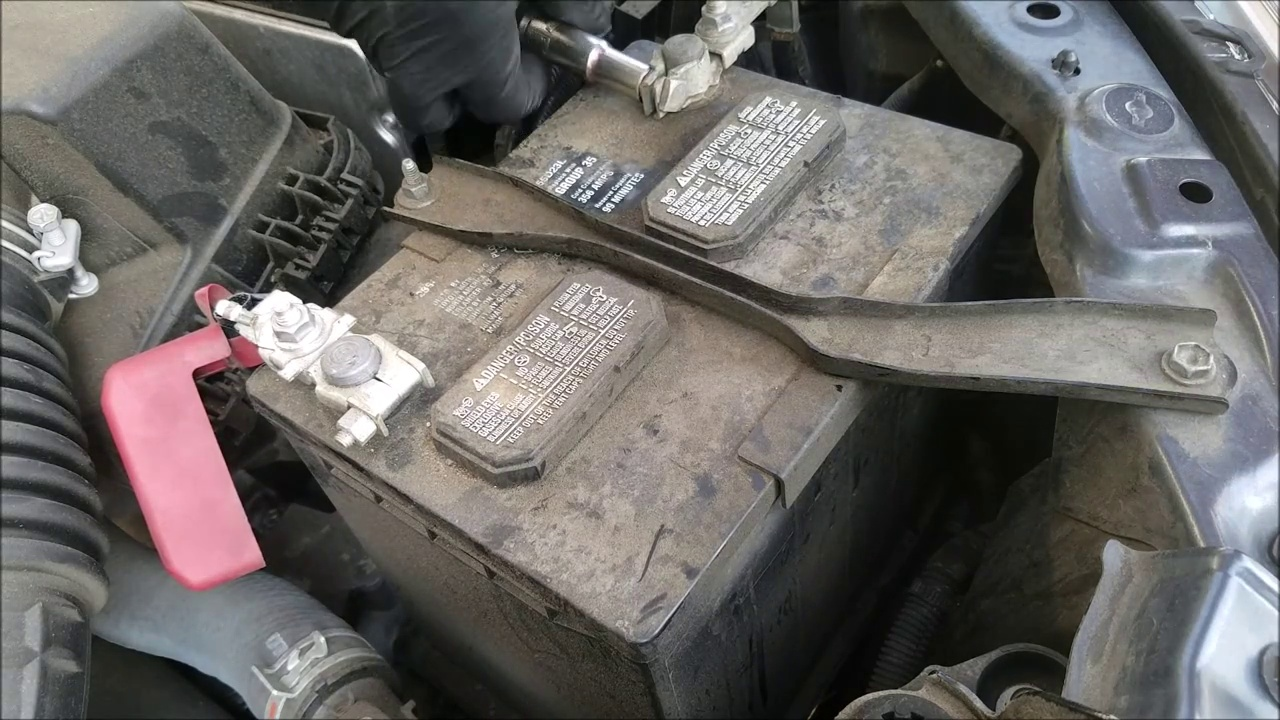battery: (245, 39, 1010, 629)
neg_connected: (635, 7, 752, 138)
pos_connected: (81, 293, 424, 492)
